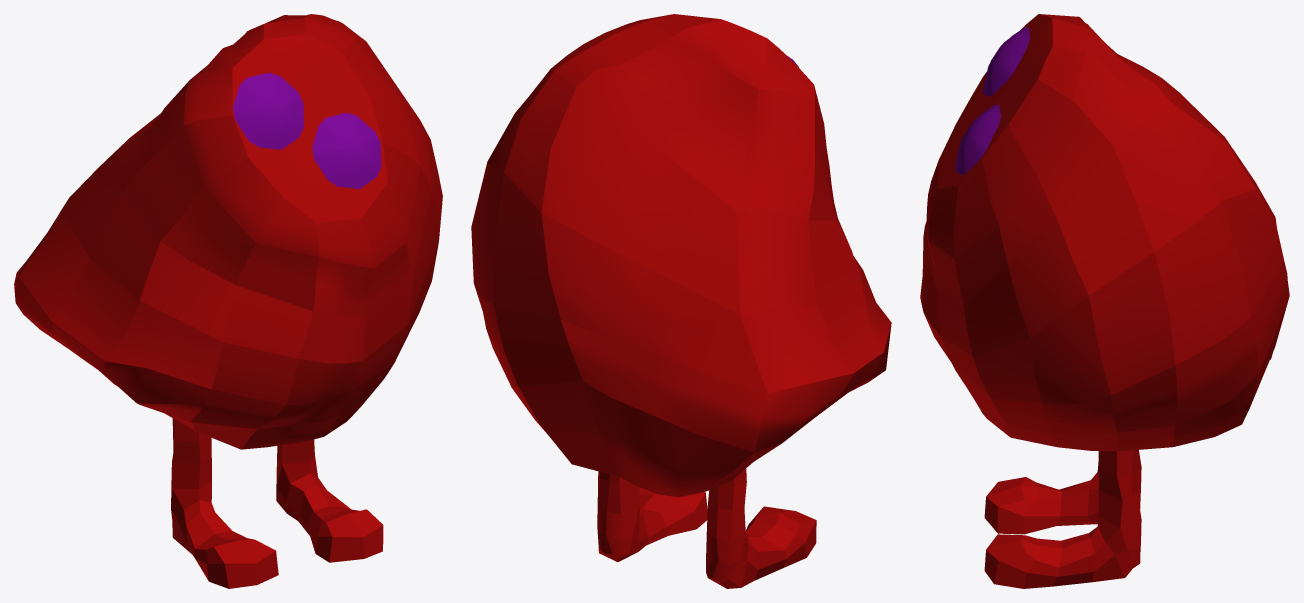
Rendered from Rocko.fbx.
The picture shows the model from 3 angles, left to right: view 1: azimuth 30°, elevation 25°; view 2: azimuth 150°, elevation 25°; view 3: azimuth 270°, elevation 25°; orthographic projection. The views are drawn at different scales.
Visible parts, largest first — view 1: Body_low, Foot_lo, Foota_low, Eye1, eye; view 2: Body_low, Foot_lo, Foota_low; view 3: Body_low, Foota_low, Foot_lo, eye, Eye1.
Boxes of the visible parts, x1=… form: Body_low: x1=14, y1=14, x2=442, y2=449; Foot_lo: x1=171, y1=418, x2=278, y2=588; Foota_low: x1=276, y1=439, x2=383, y2=562; Eye1: x1=233, y1=72, x2=303, y2=149; eye: x1=312, y1=112, x2=381, y2=189; Body_low: x1=471, y1=14, x2=891, y2=497; Foot_lo: x1=706, y1=468, x2=816, y2=588; Foota_low: x1=597, y1=471, x2=707, y2=561; Body_low: x1=920, y1=14, x2=1289, y2=451; Foota_low: x1=984, y1=450, x2=1141, y2=588; Foot_lo: x1=984, y1=450, x2=1141, y2=534; eye: x1=955, y1=104, x2=1000, y2=175; Eye1: x1=982, y1=27, x2=1029, y2=96.
Size of the model in its own units: 1.63 by 2.23 by 1.42.
